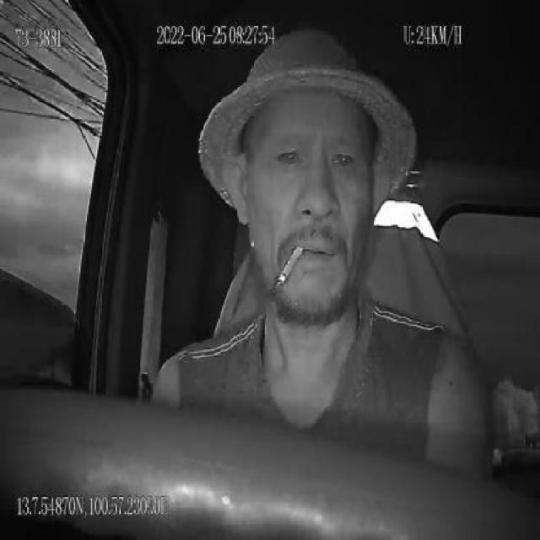smoking: (278, 243, 306, 290)
